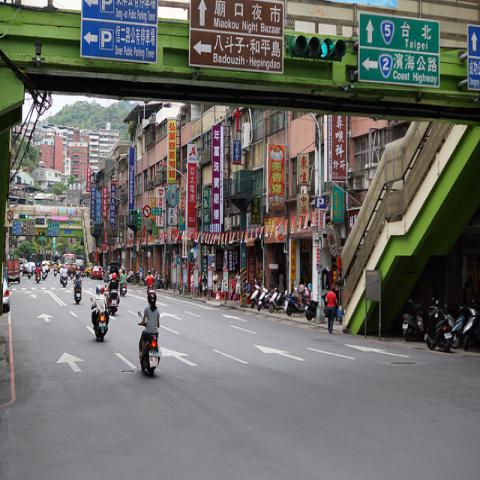car: (104, 266, 120, 283), (89, 265, 103, 281), (3, 278, 9, 312)
motorcycle: (25, 136, 479, 355), (424, 296, 454, 353), (139, 330, 160, 376), (283, 284, 308, 318), (452, 306, 470, 349), (94, 312, 109, 342), (302, 298, 319, 324), (257, 287, 274, 311), (250, 279, 262, 308), (108, 288, 120, 316), (74, 286, 83, 304), (120, 284, 128, 298), (62, 276, 68, 288), (54, 270, 57, 277)
